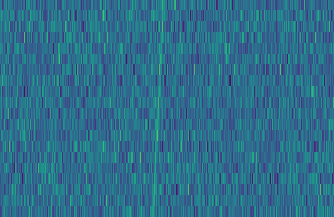signal: (148, 0, 167, 217)
